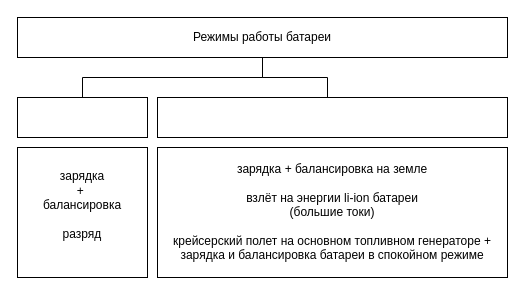
Image size: 525x295. Some labels were removed from this diagram. Each missing label, with the box of its shape:
Без дозарядки: (16, 96, 148, 138)
С использованием подзарядки ( Гибридные СУ): (156, 96, 508, 138)
